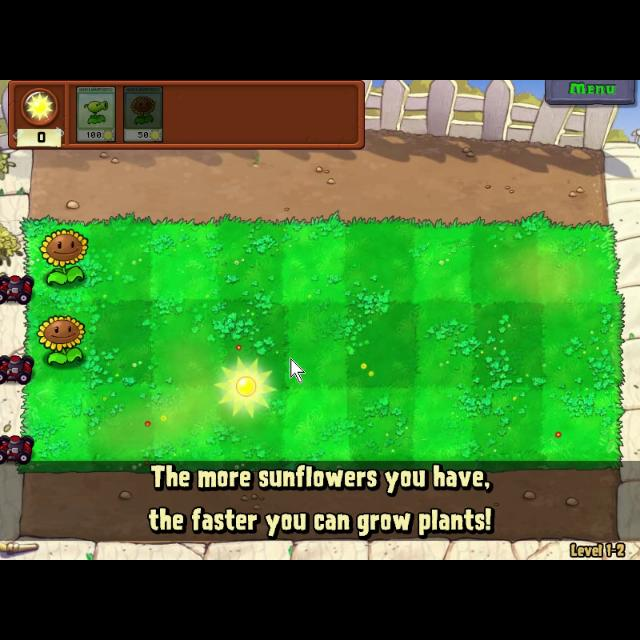Garden: (17, 210, 626, 476)
Menu Button: (544, 80, 638, 108)
Mower: (0, 268, 38, 310), (0, 351, 38, 387), (0, 432, 38, 468)
Peashooter: (75, 84, 118, 144)
Seed Panel: (4, 80, 370, 152)
Sun: (208, 352, 280, 421)
Sunflower: (122, 84, 164, 146)
Sunflower Seed: (39, 224, 91, 290), (32, 312, 90, 370)
